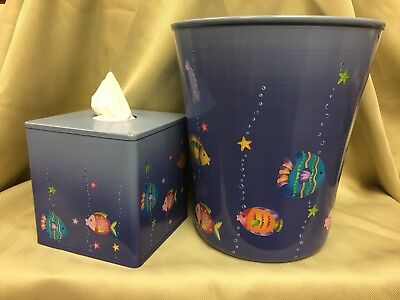Tissue: (87, 69, 137, 121)
